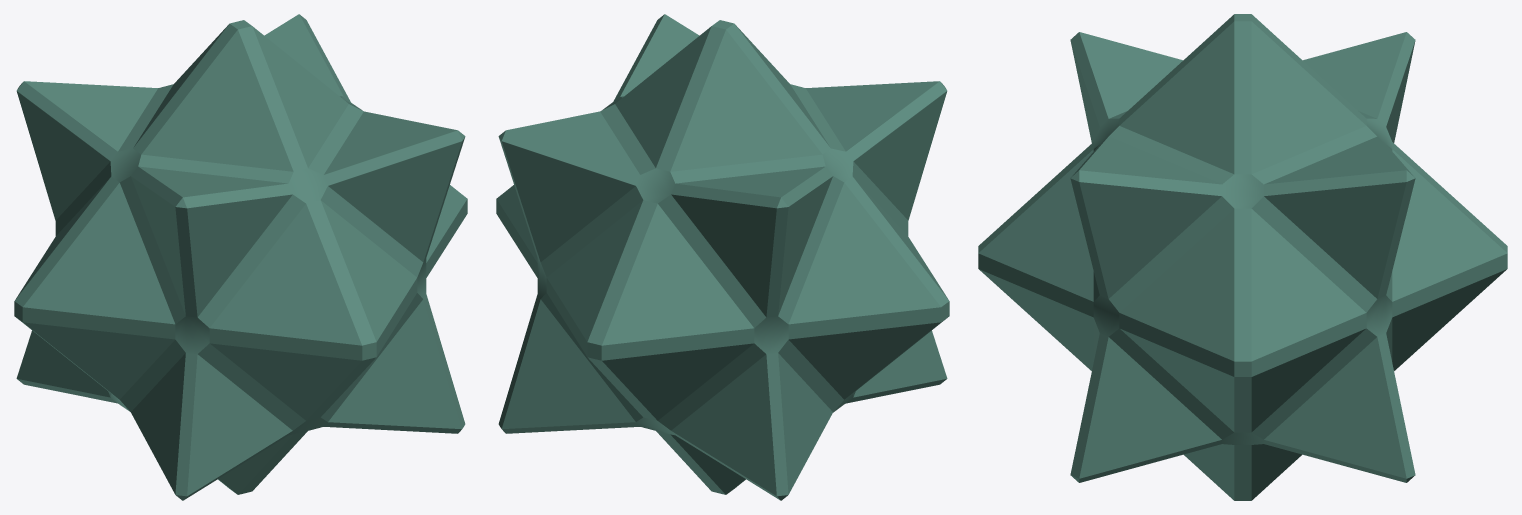
The model's file is star object dark green.fbx.
3 views of the same model, side by side, from view 1: azimuth 30°, elevation 25°; view 2: azimuth 150°, elevation 25°; view 3: azimuth 270°, elevation 25° (orthographic). The views are drawn at different scales.
Visible parts, largest first — view 1: Cube_002; view 2: Cube_002; view 3: Cube_002.
Part boxes in pixels (x1,y1,x2,y2): Cube_002: (14,14,467,500); Cube_002: (496,14,949,500); Cube_002: (978,14,1507,500).
Size of the model in its own units: 141 by 141 by 141.
